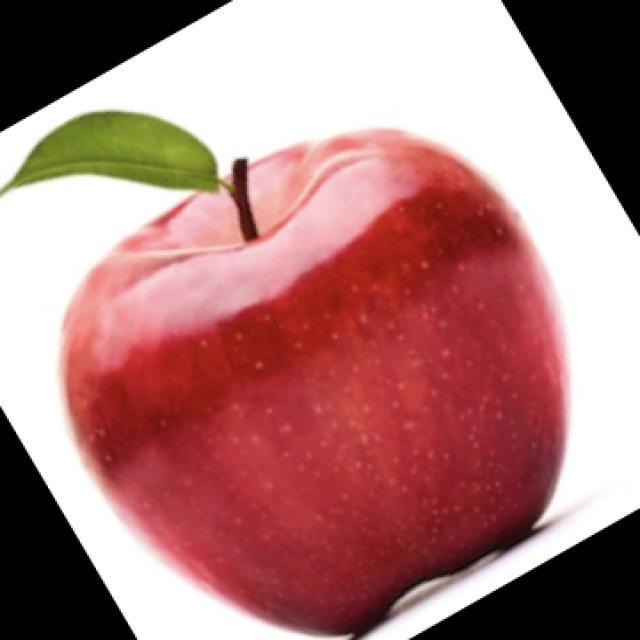Fresh Apple: (58, 143, 570, 620)
